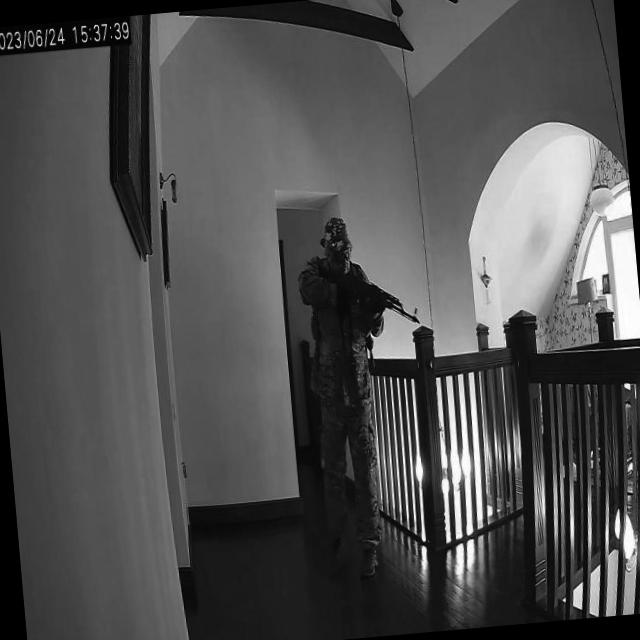gun: (314, 255, 422, 336)
person with a gun: (294, 209, 394, 586)
